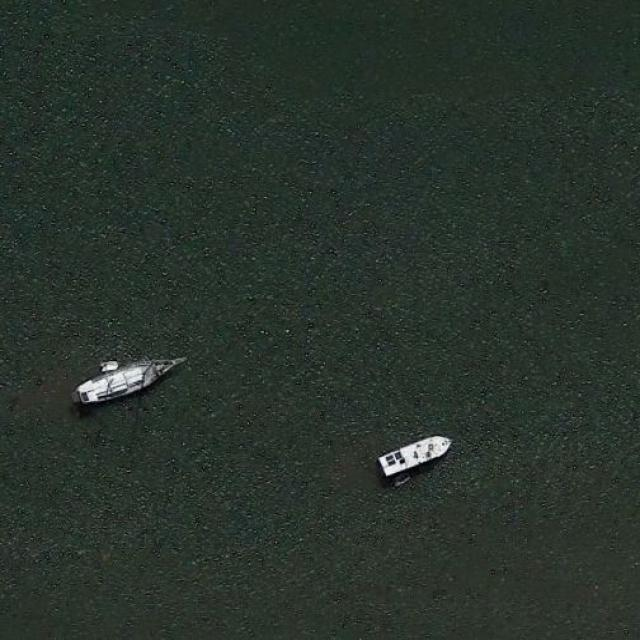ship: (74, 353, 190, 408), (377, 433, 453, 478)
